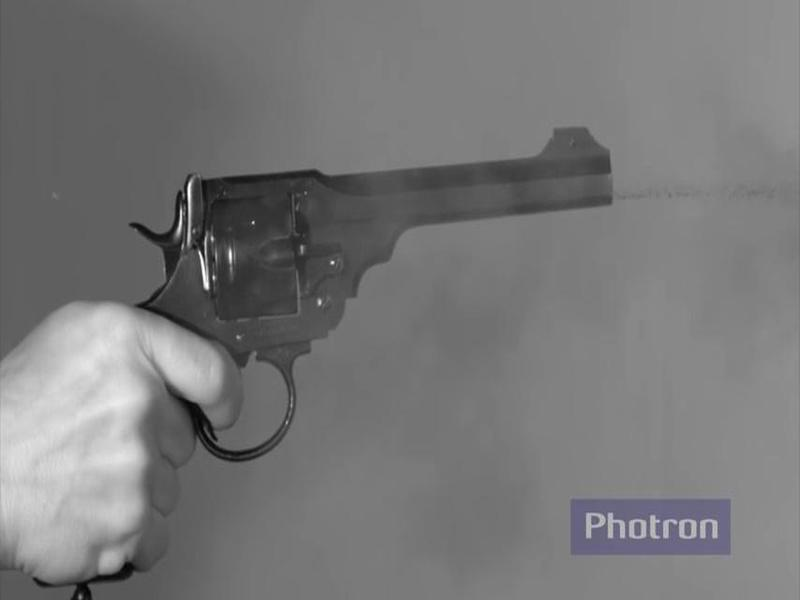Revolver: (114, 125, 632, 480)
